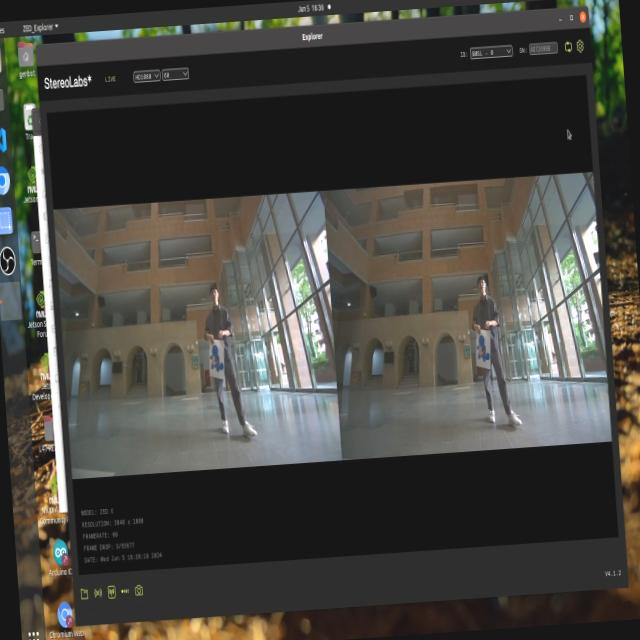blue: (206, 336, 224, 374), (476, 329, 493, 365)
